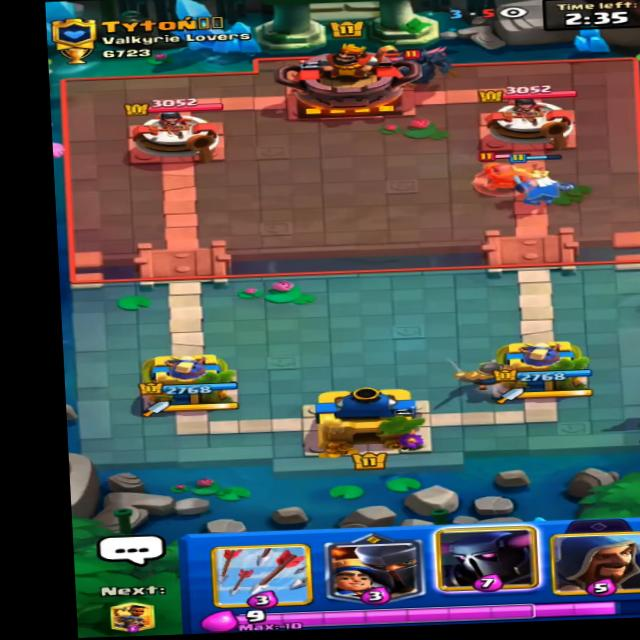knight: (460, 148, 545, 192)
pekka: (368, 44, 460, 86)
